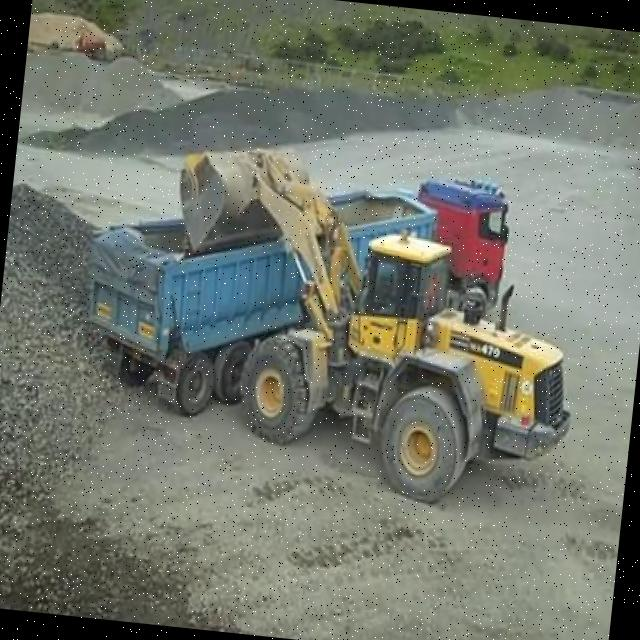Dump Truck: (76, 136, 514, 443)
Loader: (146, 141, 595, 517)
